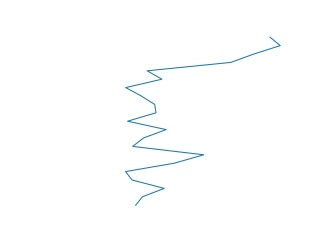crevasseRiverChannelBar: (120, 34, 284, 210)
